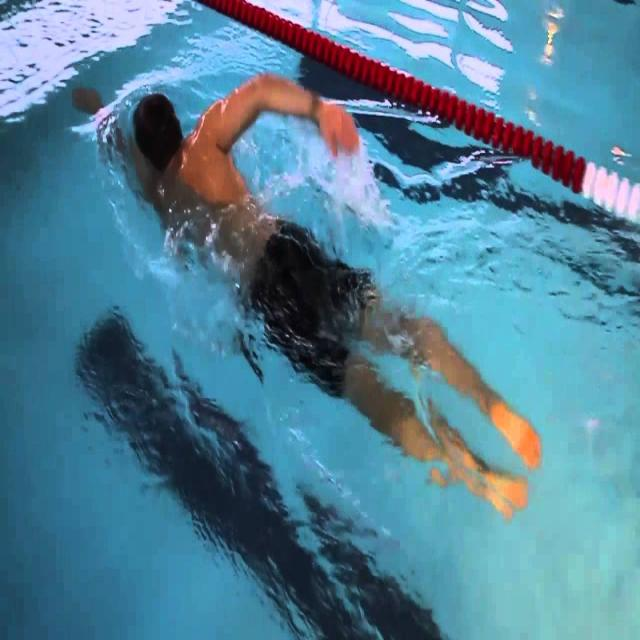swimming: (46, 43, 561, 626)
